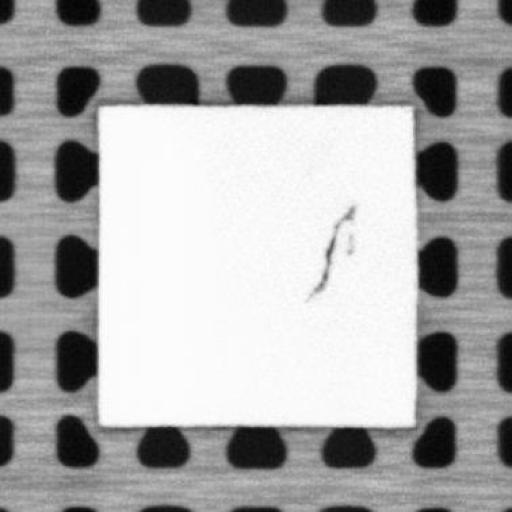DIE_INK: (302, 203, 356, 304)
